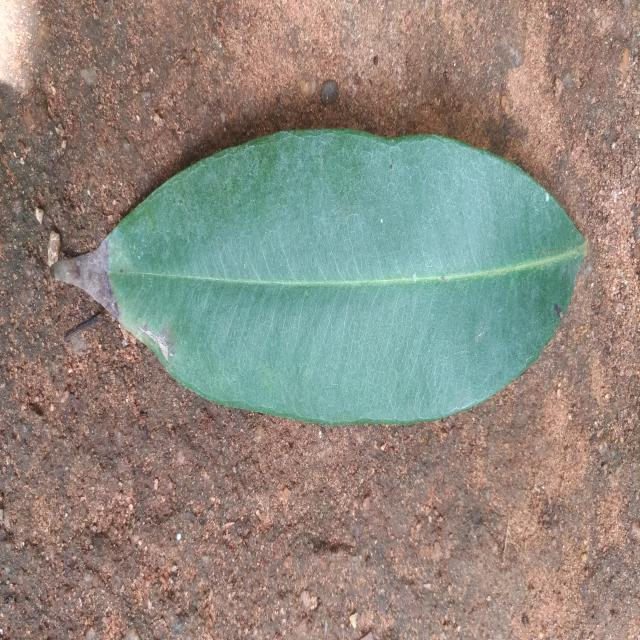nerale: (52, 129, 585, 424)
